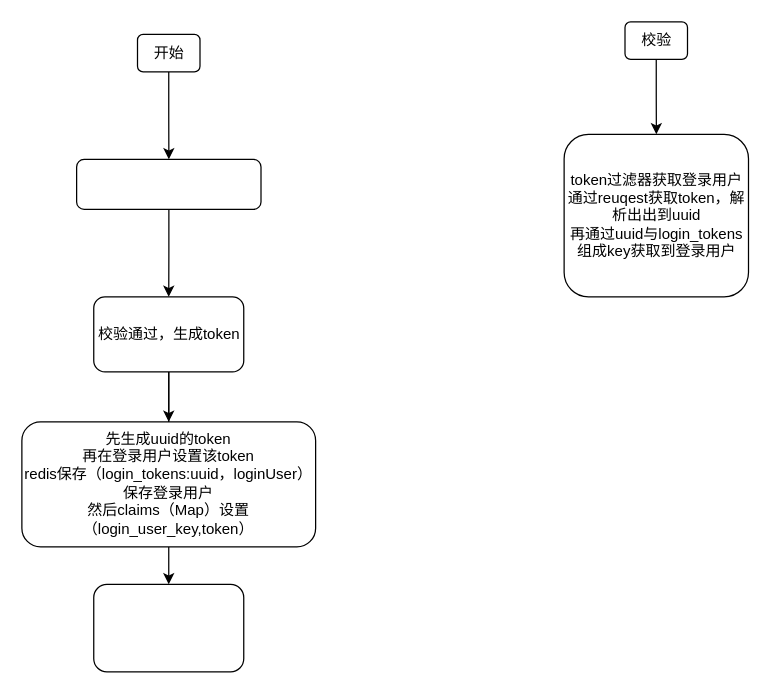
The diagram is 771 pixels wide and 694 high, and some of its shapes have lost their labels. Here are the shapes that lost their labels. From the top down, the centre of each, then its label:
At [168,183]: "输入用户名、密码、验证码".
At [168,627]: "把claims再通过JWT加密 返回前端的是JWTtoken".
